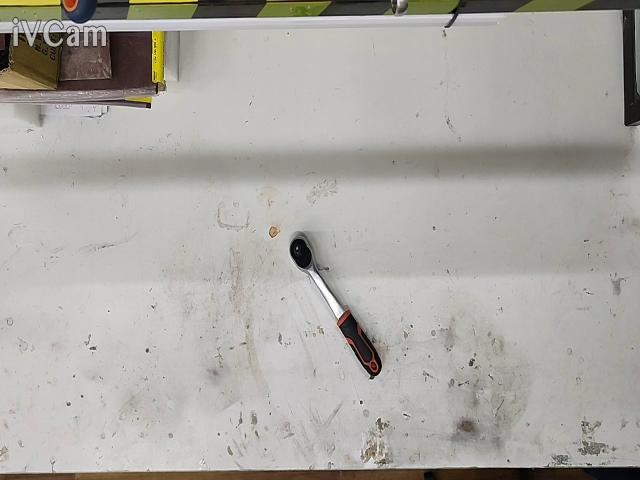Ratchet: (289, 235, 381, 377)
